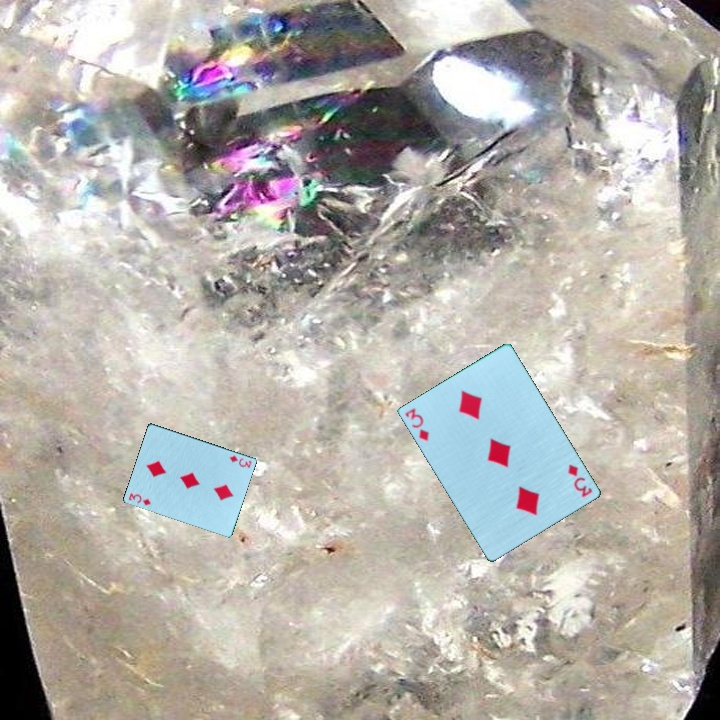3d: (560, 460, 595, 500), (402, 405, 432, 444), (125, 489, 154, 508), (226, 452, 254, 471)
